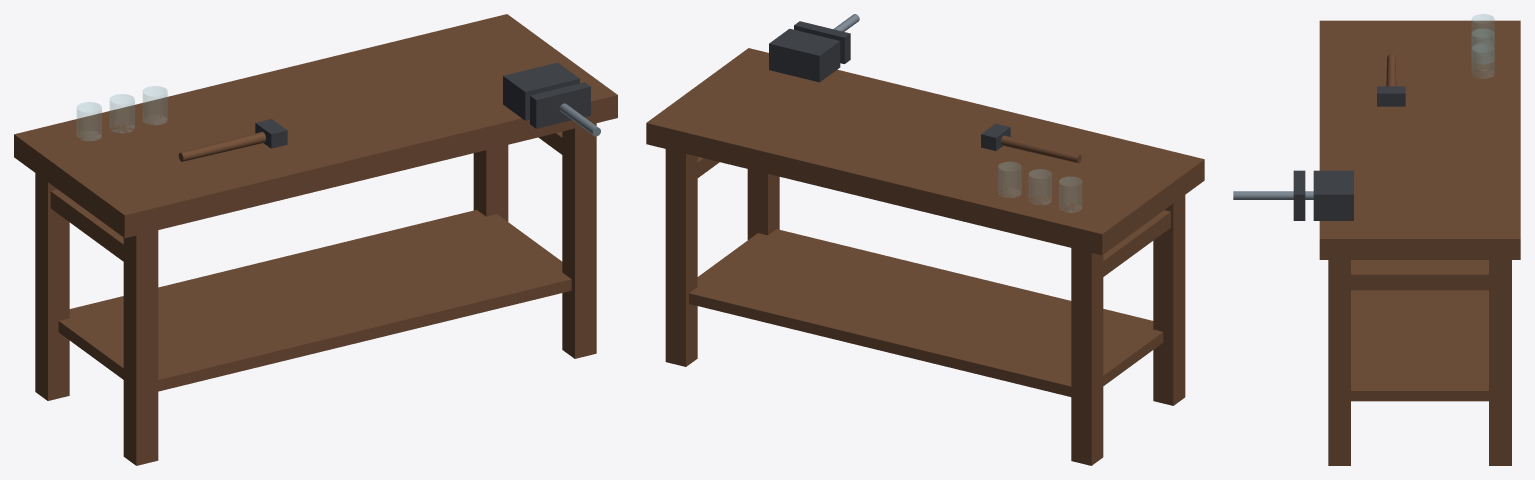
File: workbench-lod0.glb
3 views of the same model, side by side, from view 1: azimuth 30°, elevation 25°; view 2: azimuth 150°, elevation 25°; view 3: azimuth 270°, elevation 25° (orthographic). The views are drawn at different scales.
Visible parts, largest first — view 1: top, lower-shelf, leg (×4), vise-body, vise-jaw, stretcher, hammer-handle, jar-1, jar-0, jar-2, hammer-head; view 2: top, lower-shelf, leg (×4), vise-body, stretcher, hammer-handle, vise-jaw, jar-2, jar-1, jar-0, hammer-head; view 3: top, lower-shelf, leg (×2), stretcher, vise-body, jar-2, jar-1, vise-jaw, jar-0, vise-screw, hammer-head, hammer-handle.
Boxes of the visible parts, box(x1,y1,x2,y2) form: top: box(14, 14, 617, 237); lower-shelf: box(58, 210, 571, 391); leg (×4): box(35, 123, 596, 465); vise-body: box(503, 62, 579, 120); vise-jaw: box(530, 82, 590, 128); stretcher: box(50, 189, 123, 261); hammer-handle: box(178, 131, 265, 161); jar-1: box(110, 94, 134, 132); jar-0: box(77, 102, 101, 140); jar-2: box(143, 86, 167, 124); hammer-head: box(255, 119, 287, 148); top: box(646, 48, 1204, 255); lower-shelf: box(689, 229, 1163, 396); leg (×4): box(665, 149, 1185, 465); vise-body: box(769, 28, 840, 82); stretcher: box(1103, 210, 1170, 276); hammer-handle: box(1001, 135, 1081, 163); vise-jaw: box(794, 21, 850, 63); jar-2: box(998, 162, 1021, 197); jar-1: box(1029, 169, 1051, 204); jar-0: box(1059, 177, 1081, 212); hammer-head: box(981, 123, 1010, 150); top: box(1319, 20, 1520, 259); lower-shelf: box(1351, 260, 1488, 401); leg (×2): box(1328, 260, 1511, 465); stretcher: box(1351, 267, 1488, 290); vise-body: box(1313, 170, 1353, 220); jar-2: box(1472, 43, 1494, 78); jar-1: box(1472, 29, 1494, 63); vise-jaw: box(1293, 170, 1305, 220); jar-0: box(1472, 14, 1494, 45); vise-screw: box(1233, 191, 1313, 199); hammer-head: box(1377, 86, 1405, 106); hammer-handle: box(1386, 54, 1396, 86).
Size of the model in its own units: 1.8 by 1 by 1.
